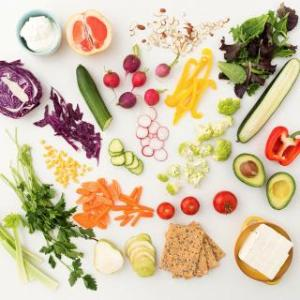bell_pepper: (269, 127, 299, 165)
cucumber: (76, 66, 112, 126)
tomato: (213, 192, 237, 214), (180, 197, 200, 215), (157, 202, 176, 220)
